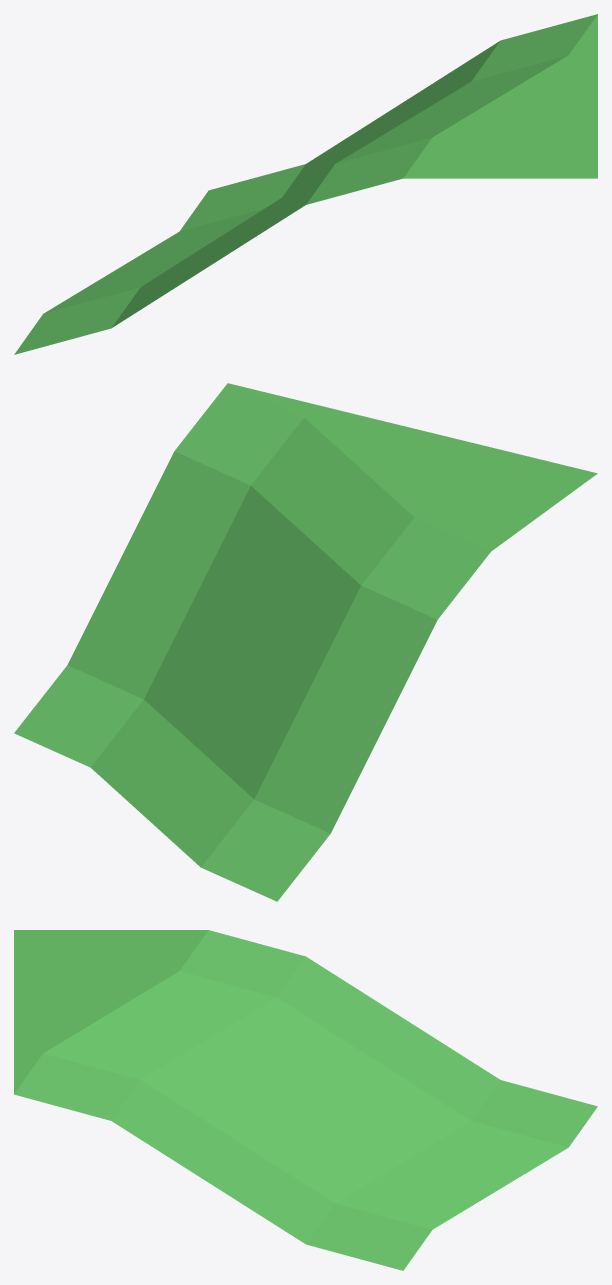
The model's file is Hilly_Terrain_Hill_Side_Shift_Sharp.glb.
3 renders of one model, top to bottom at view 1: azimuth 90°, elevation 25°; view 2: azimuth 150°, elevation 25°; view 3: azimuth 270°, elevation 25°, orthographic. The views are drawn at different scales.
Visible parts, largest first — view 1: Hilly_Terrain_Hill_Side_Shift_Sharp; view 2: Hilly_Terrain_Hill_Side_Shift_Sharp; view 3: Hilly_Terrain_Hill_Side_Shift_Sharp.
Part boxes in pixels (x1,y1,x2,y2): Hilly_Terrain_Hill_Side_Shift_Sharp: (14, 14, 597, 354); Hilly_Terrain_Hill_Side_Shift_Sharp: (14, 383, 597, 901); Hilly_Terrain_Hill_Side_Shift_Sharp: (14, 930, 597, 1270).
Bounding box in the file's own units: 2 × 1 × 3.
